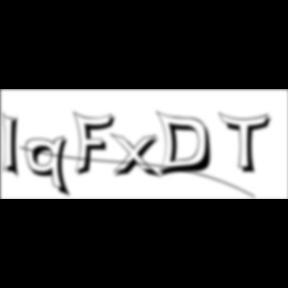D: (156, 110, 218, 180)
F: (73, 110, 121, 178)
I: (2, 110, 26, 182)
T: (219, 112, 277, 176)
q: (25, 135, 74, 200)
x: (110, 132, 166, 181)
